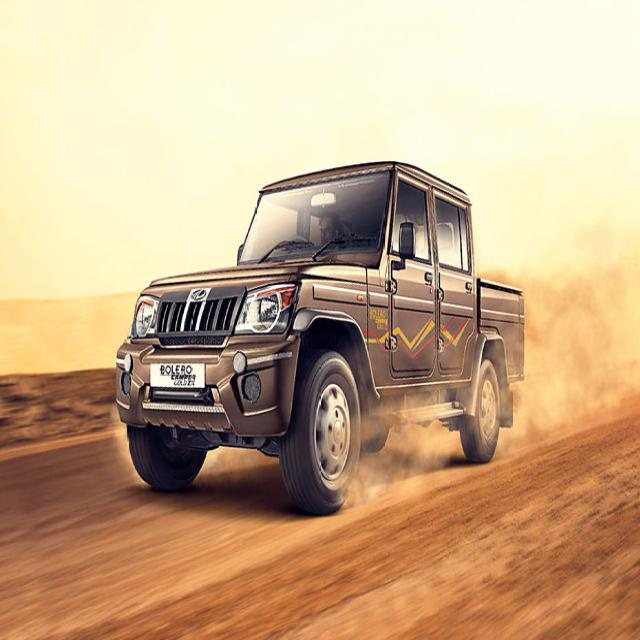light_vehicle: (113, 148, 514, 509)
